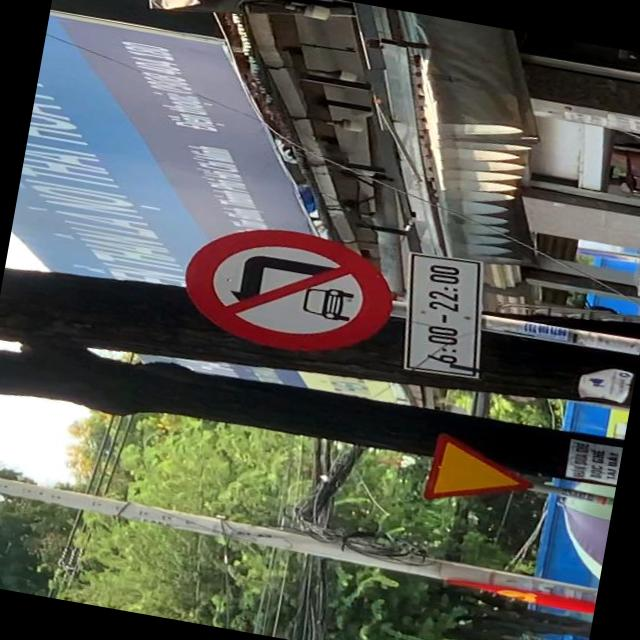W-208: (420, 431, 534, 518)
